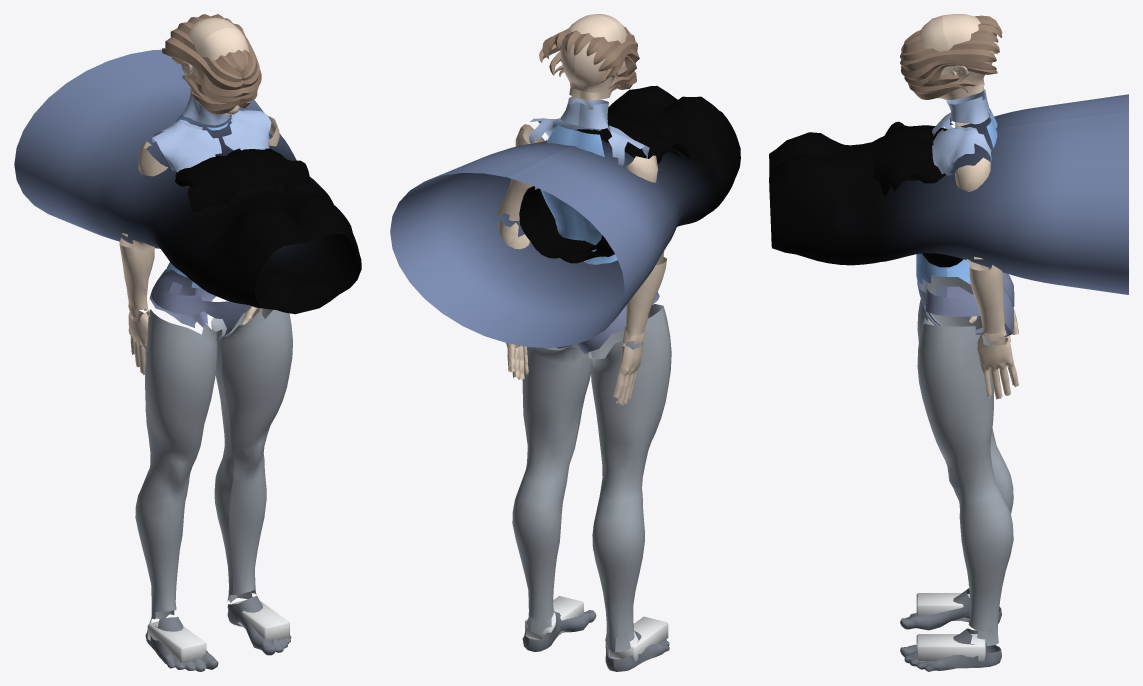
File: staff-researcher-idle.glb
3 views of the same model, side by side, from view 1: azimuth 30°, elevation 25°; view 2: azimuth 150°, elevation 25°; view 3: azimuth 270°, elevation 25° (orthographic).
Parts seen in each view (by area): view 1: Trousers, Leg_1, Leg_-1, Hair, LabCoat, Hips, Shoulder_1, Head, LowerArm_1, Shoulder_-1, Shoe_1, Foot_-1 (+5 smaller); view 2: Trousers, Leg_1, Leg_-1, LabCoat, Hair, Head, Torso, Shirt, LowerArm_1, Neck, Shoe_1, Hand_1 (+10 smaller); view 3: Trousers, Leg_-1, Hair, LabCoat, Head, Hips, Leg_1, LowerArm_-1, Hand_-1, Shoulder_-1, Foot_-1, Shoe_-1 (+5 smaller).
Part boxes in pixels (bbox=[...]): Trousers: bbox=[14, 49, 361, 314]; Leg_1: bbox=[135, 309, 222, 623]; Leg_-1: bbox=[211, 308, 292, 602]; Hair: bbox=[162, 14, 261, 114]; LabCoat: bbox=[175, 148, 310, 212]; Hips: bbox=[149, 269, 251, 337]; Shoulder_1: bbox=[151, 119, 221, 172]; Head: bbox=[181, 17, 249, 114]; LowerArm_1: bbox=[119, 237, 154, 317]; Shoulder_-1: bbox=[222, 110, 271, 150]; Shoe_1: bbox=[147, 621, 206, 663]; Foot_-1: bbox=[227, 595, 291, 655]; Trousers: bbox=[390, 86, 740, 347]; Leg_1: bbox=[588, 304, 671, 651]; Leg_-1: bbox=[512, 344, 591, 632]; LabCoat: bbox=[519, 116, 689, 263]; Hair: bbox=[539, 26, 639, 89]; Head: bbox=[560, 14, 627, 103]; Torso: bbox=[540, 124, 617, 264]; Shirt: bbox=[525, 148, 680, 254]; LowerArm_1: bbox=[623, 251, 666, 345]; Neck: bbox=[560, 97, 608, 129]; Shoe_1: bbox=[609, 616, 668, 661]; Hand_1: bbox=[613, 341, 643, 405]; Trousers: bbox=[769, 94, 1128, 294]; Leg_-1: bbox=[917, 318, 1013, 645]; Hair: bbox=[900, 15, 1002, 99]; LabCoat: bbox=[872, 121, 962, 267]; Head: bbox=[919, 14, 994, 99]; Hips: bbox=[917, 272, 1014, 337]; Leg_1: bbox=[917, 275, 1013, 584]; LowerArm_-1: bbox=[966, 259, 1006, 341]; Hand_-1: bbox=[977, 332, 1018, 399]; Shoulder_-1: bbox=[932, 126, 991, 175]; Foot_-1: bbox=[900, 628, 1001, 671]; Shoe_-1: bbox=[916, 634, 985, 661].
Size of the model in its own units: 0.6708 by 1.72 by 0.8933.
